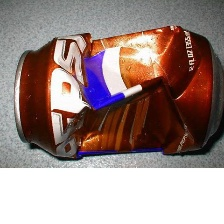can: (10, 22, 224, 160)
